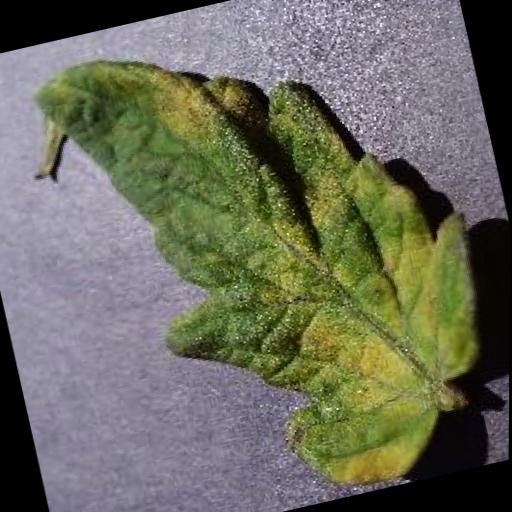Leaf Mold: (23, 0, 512, 512)
